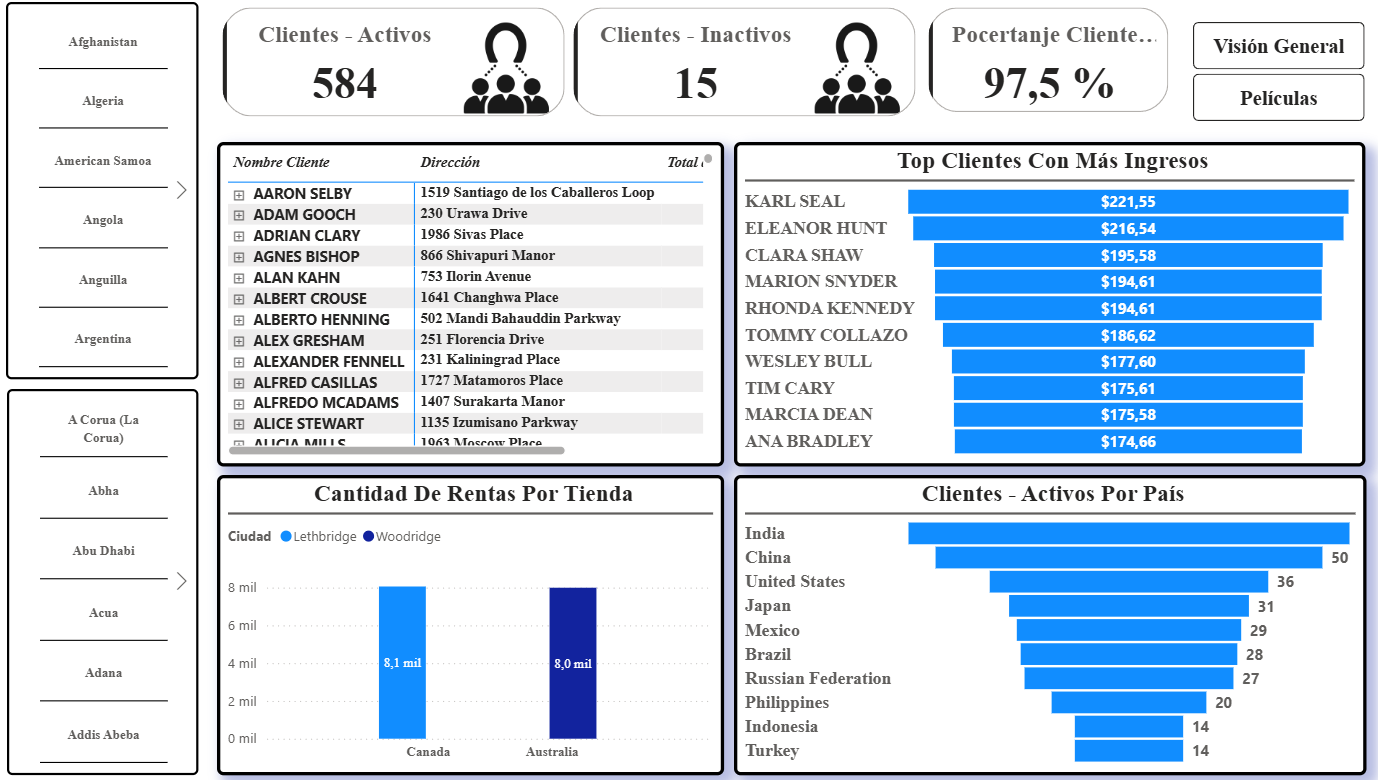

What the dashboard file says about the page in this screenshot:
{"tool":"powerbi","page":{"name":"Clientes","canvas":[1280,720],"ordinal":2},"visuals":[{"type":"slicer","fields":{"Values":["Dimension_Clientes.country"]},"box":[9.1,8.2,174.5,342.7],"z":0},{"type":"slicer","fields":{"Values":["Dimension_Clientes.city"]},"box":[10,360,173.6,350.9],"z":1000},{"type":"cardVisual","fields":{"Data":["Medidas.Clientes - Activos","Medidas.Clientes - Inactivos"]},"box":[200.9,8.2,641.8,109.1],"z":2000},{"type":"pivotTable","fields":{"Values":["Dimension_Clientes.address","TblHechos_Ventas.amount","Dimension_Clientes.Estado"],"Rows":["Dimension_Clientes.Nombre Cliente","Dimension_Peliculas.category","Dimension_Peliculas.title"]},"box":[200.9,135.5,460.9,295.5],"z":3000},{"type":"cardVisual","fields":{"Data":["Medidas.Pocertanje Clientes Activos"]},"box":[842.7,8.2,228.2,105.5],"z":4000},{"type":"funnel","title":"Top Clientes Con Más Ingresos","fields":{"Category":["Dimension_Clientes.Nombre Cliente"],"Y":["Medidas.Ventas Totales - Suma"]},"box":[670.9,135.5,573.6,295.5],"z":5000},{"type":"pageNavigator","box":[1088.2,26.4,156.4,90.9],"z":6000},{"type":"clusteredColumnChart","title":"Cantidad De Rentas Por Tienda","fields":{"Category":["Dimension_Tiendas.country"],"Series":["Dimension_Tiendas.city"],"Y":["Medidas.Numero de Rentas Por Tienda"]},"box":[200.9,438.2,460.9,272.7],"z":7000},{"type":"funnel","title":"Clientes - Activos Por País","fields":{"Category":["Dimension_Clientes.country"],"Y":["Medidas.Clientes - Activos"]},"box":[670.9,438.2,574.5,272.7],"z":8000}]}

Visuals, with their boxes in screenshot pixels (x1, y1, x2, y2), scaled from the page's 1280x720 canvas onto the 1378x780 screenshot:
slicer - Dimension_Clientes.country: [left=10, top=9, right=198, bottom=380]
slicer - Dimension_Clientes.city: [left=11, top=390, right=198, bottom=770]
cardVisual - Medidas.Clientes - Activos x Medidas.Clientes - Inactivos: [left=216, top=9, right=907, bottom=127]
pivotTable - Dimension_Clientes.address x TblHechos_Ventas.amount: [left=216, top=147, right=712, bottom=467]
cardVisual - Medidas.Pocertanje Clientes Activos: [left=907, top=9, right=1153, bottom=123]
"Top Clientes Con Más Ingresos" funnel: [left=722, top=147, right=1340, bottom=467]
pageNavigator: [left=1172, top=29, right=1340, bottom=127]
"Cantidad De Rentas Por Tienda" clusteredColumnChart: [left=216, top=475, right=712, bottom=770]
"Clientes - Activos Por País" funnel: [left=722, top=475, right=1341, bottom=770]
